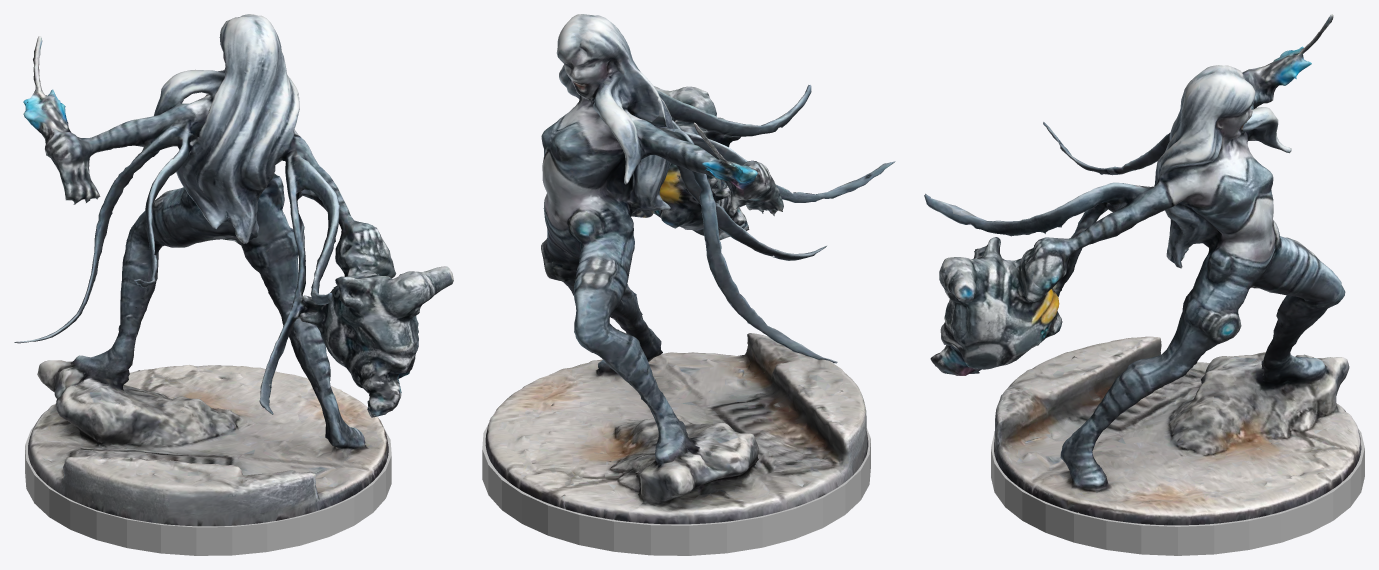
3 renders of one model, left to right at view 1: azimuth 30°, elevation 25°; view 2: azimuth 150°, elevation 25°; view 3: azimuth 270°, elevation 25°, orthographic. The views are drawn at different scales.
Visible parts, largest first — view 1: BlackSwan, default; view 2: BlackSwan, default; view 3: BlackSwan, default.
Boxes of the visible parts, left/top/right/bottom form: BlackSwan: left=14, top=14, right=453, bottom=526; default: left=25, top=427, right=391, bottom=555; BlackSwan: left=485, top=14, right=895, bottom=524; default: left=482, top=424, right=870, bottom=555; BlackSwan: left=924, top=14, right=1361, bottom=525; default: left=991, top=428, right=1364, bottom=555.
Bounding box in the file's own units: 1.44 × 1.78 × 1.62.
Materials: 2 (1 with a texture image).
